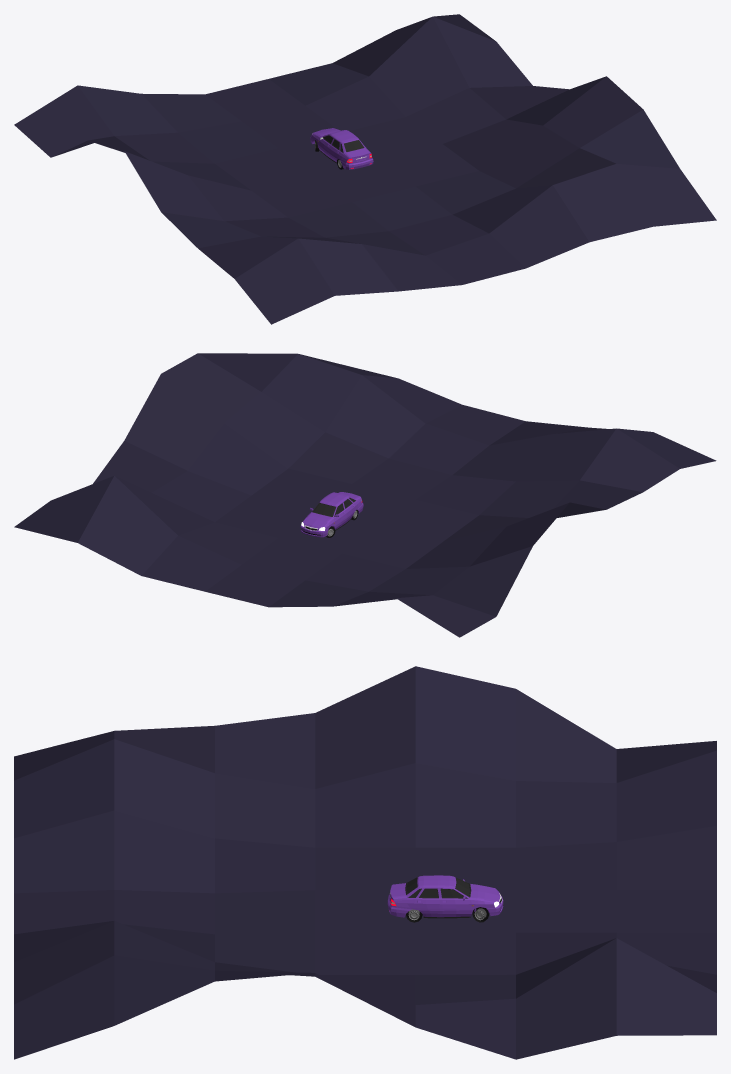
Rendered from priora.glb.
3 views of the same model, one above another, from view 1: azimuth 30°, elevation 25°; view 2: azimuth 150°, elevation 25°; view 3: azimuth 270°, elevation 25° (orthographic). The views are drawn at different scales.
Parts seen in each view (by area): view 1: Ground, Body; view 2: Ground, Body; view 3: Ground, Body.
Boxes of the visible parts, x1=… form: Ground: x1=14, y1=14, x2=716, y2=324; Body: x1=310, y1=128, x2=373, y2=169; Ground: x1=14, y1=353, x2=716, y2=637; Body: x1=300, y1=492, x2=363, y2=537; Ground: x1=14, y1=666, x2=716, y2=1059; Body: x1=387, y1=875, x2=503, y2=918.
Bounding box in the file's own units: 26.62 × 4.17 × 26.62.
